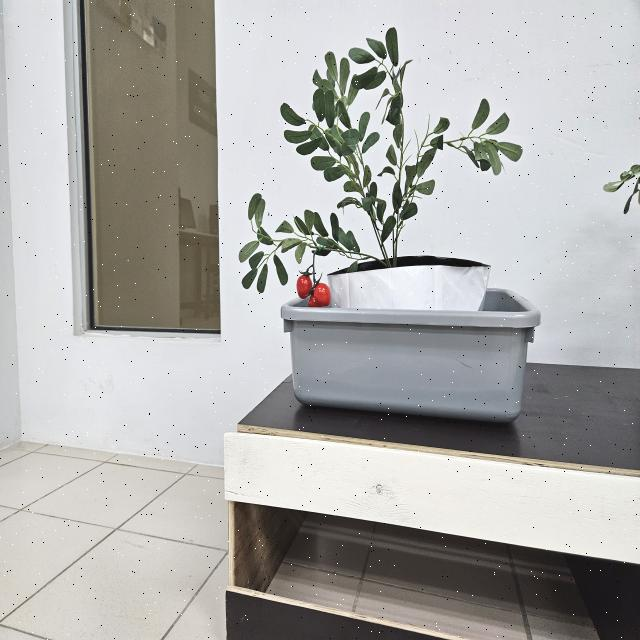Soilbag: (327, 255, 492, 353)
Tomato: (295, 273, 334, 310)
plant: (237, 28, 523, 308)
